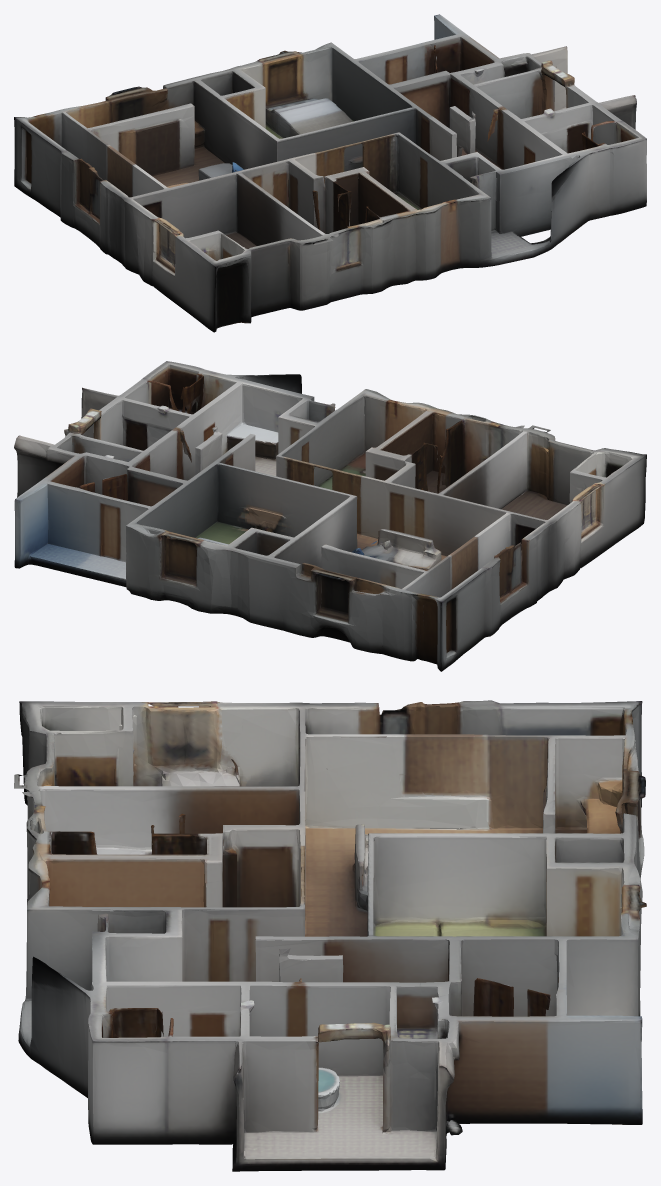
3 views of the same model, one above another, from view 1: azimuth 30°, elevation 25°; view 2: azimuth 150°, elevation 25°; view 3: azimuth 270°, elevation 25° (orthographic). The views are drawn at different scales.
Parts seen in each view (by area): view 1: world; view 2: world; view 3: world.
Part boxes in pixels (<box>): world: <box>14,14,646,332</box>; world: <box>14,361,646,671</box>; world: <box>14,700,646,1171</box>.
Bounding box in the file's own units: 0.9991 × 0.1466 × 0.7265.
1 material, 1 textured.
